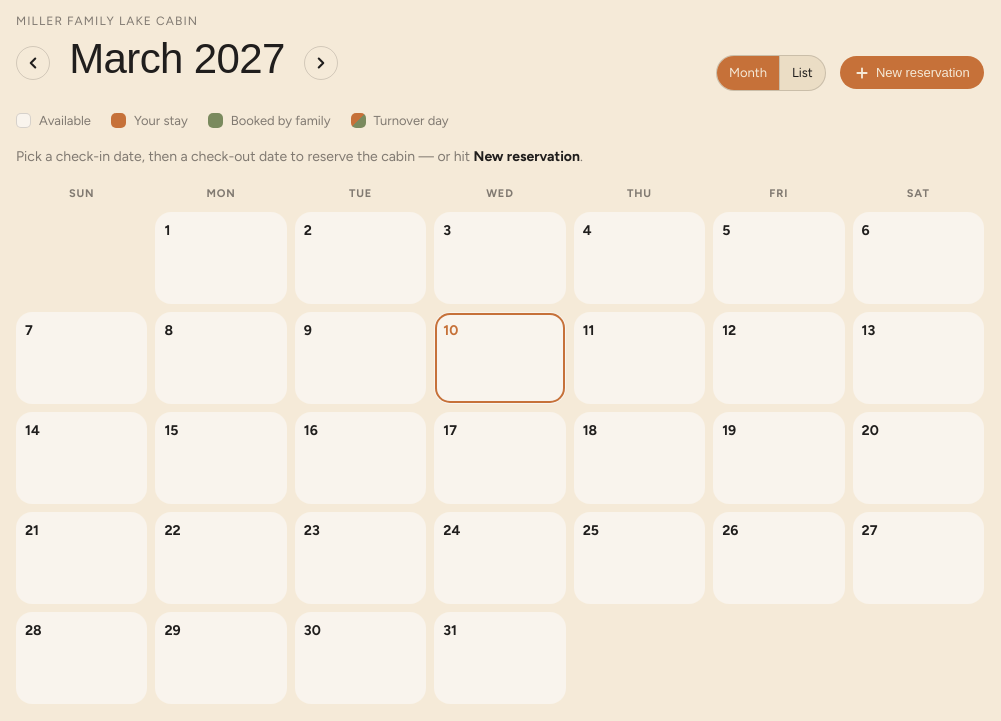
Test: CAP-022 Cabin calendar › CAP-022 · I can move between months (March → April → March)
This screenshot has width=1001, height=721.
Click the button named "Next month".
click(321, 63)  # box [304, 46, 338, 80]
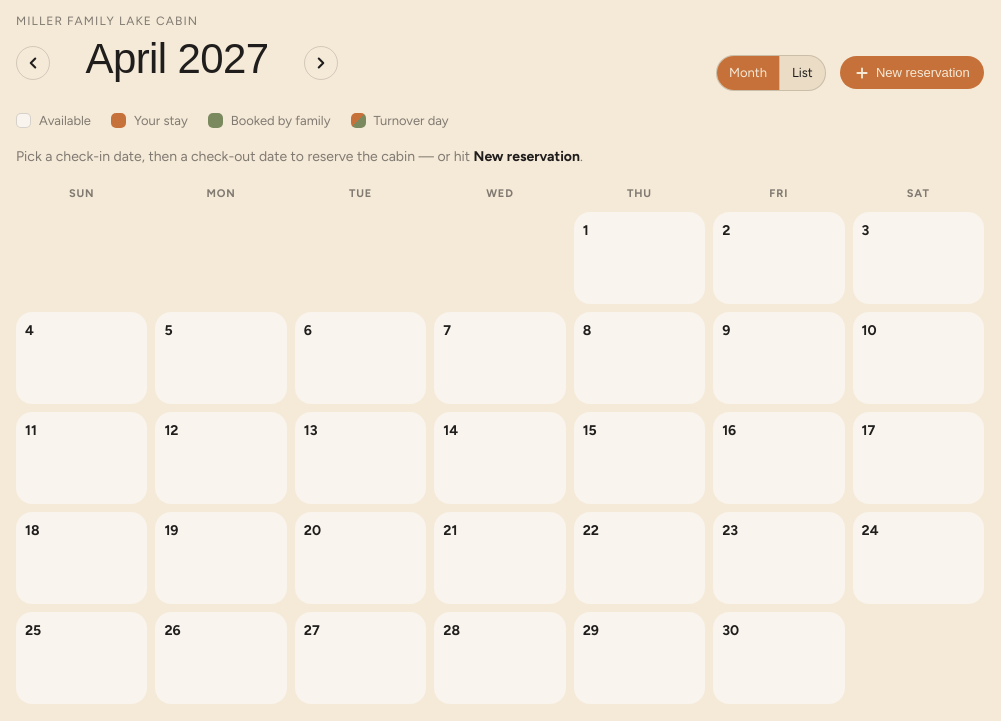
Check: the heading reads "April 2027", box [86, 35, 268, 82]
Click the button named "Previous month".
click(33, 63)  # box [16, 46, 50, 80]
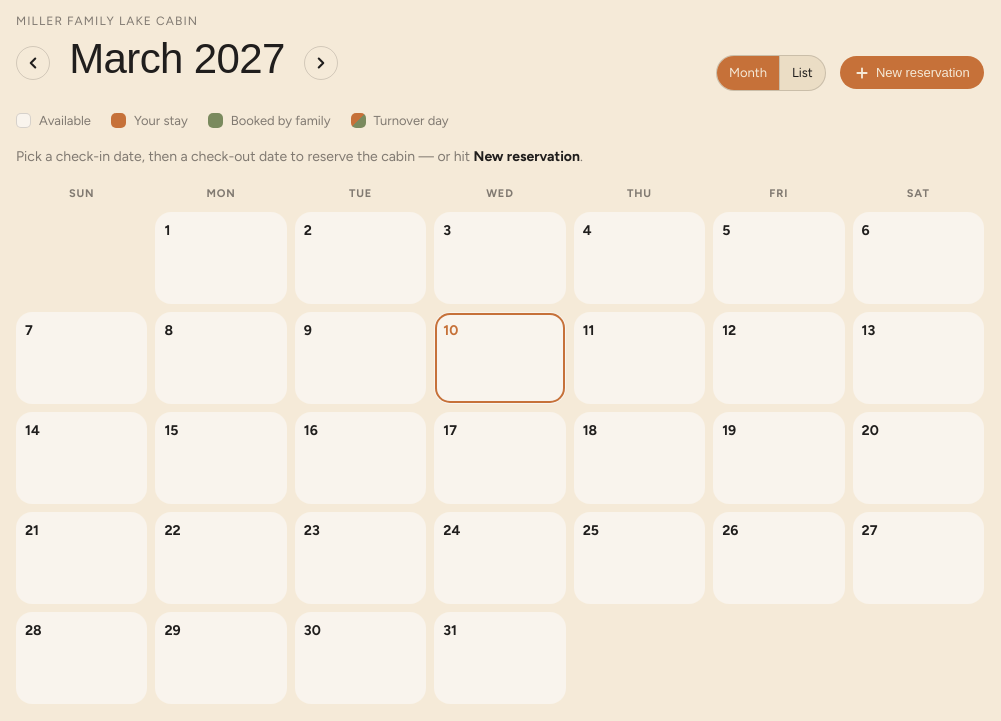
Check: the heading reads "March 2027", box [69, 35, 285, 82]
